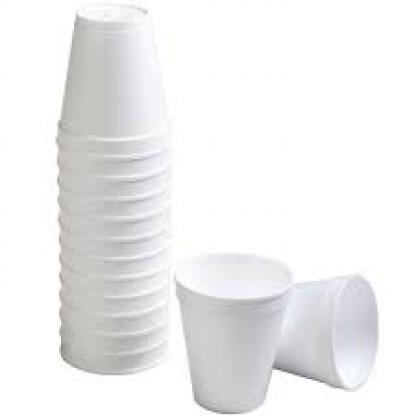paper: (55, 4, 159, 374), (172, 250, 290, 414), (55, 9, 159, 159), (268, 274, 375, 388)
